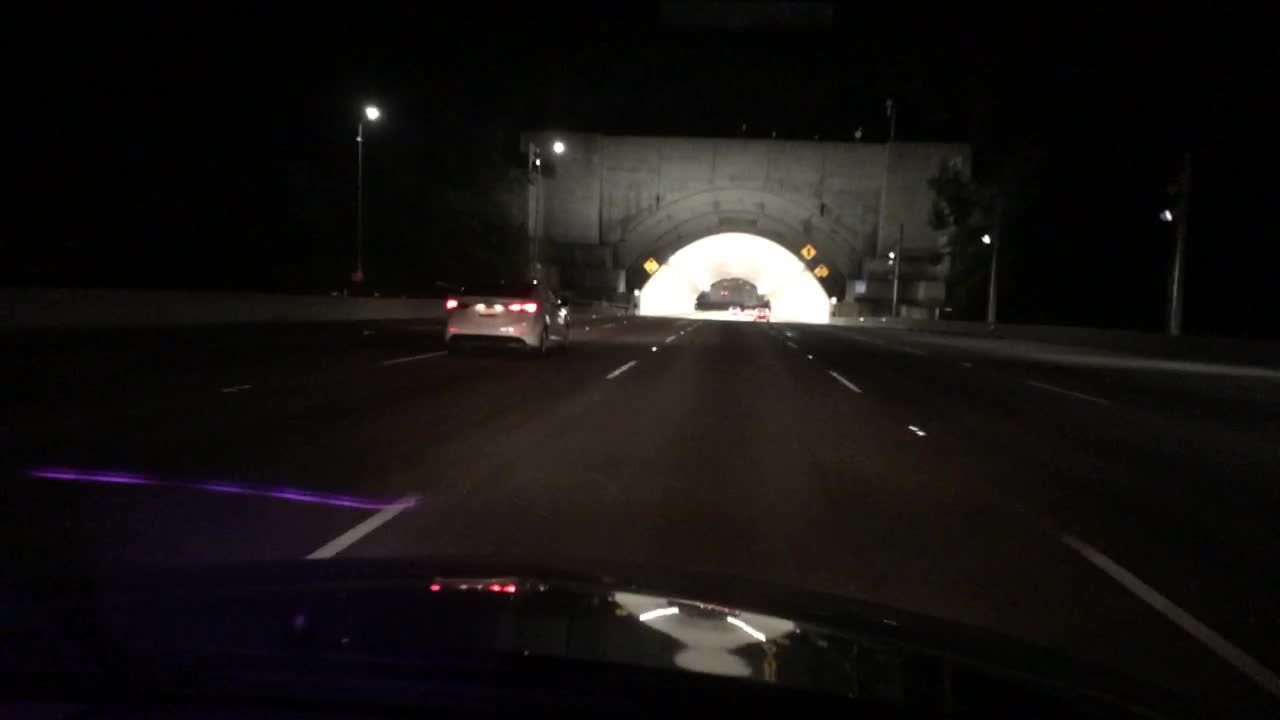car: (444, 274, 572, 353), (753, 306, 773, 323)
traffic sign: (801, 242, 817, 261), (641, 255, 657, 273), (814, 265, 832, 278)
